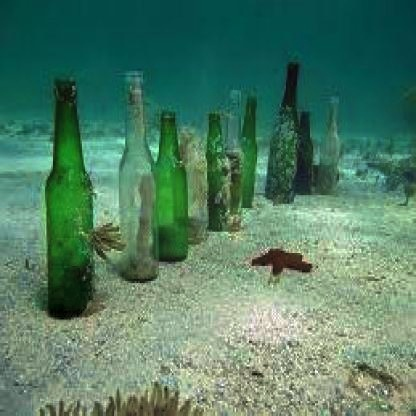gbottle: (45, 77, 96, 324), (119, 71, 159, 283), (265, 60, 302, 199), (157, 116, 188, 262), (177, 126, 207, 242), (202, 113, 228, 230), (226, 92, 246, 230), (238, 97, 258, 210), (295, 114, 315, 195)
